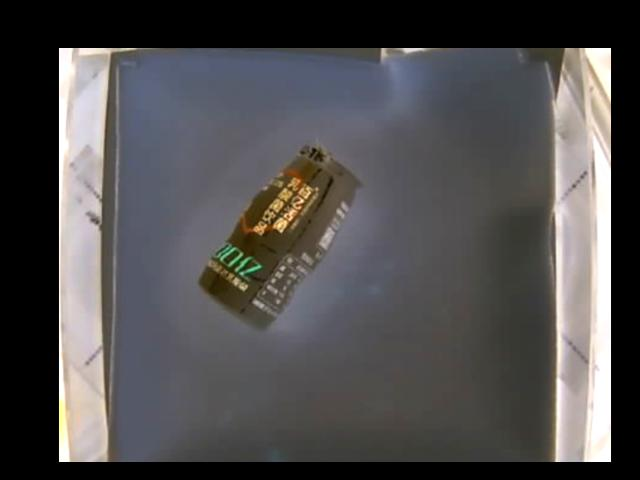Bottle: (196, 141, 362, 331)
